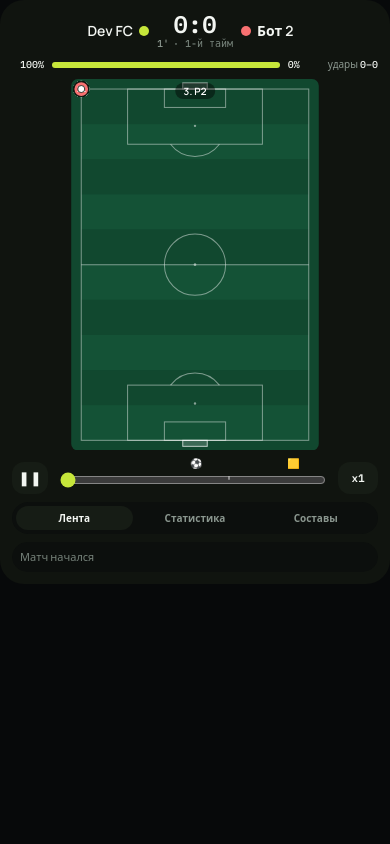
Test case: ReplayPlayer › draws the board, pitch, timeline and commentary; no tactics buttons after the match
The image size is (390, 844).
Expected: the text "Dev FC" is shown, [87,21,133,41]
Expected: the text named "Счёт" reads "0:0", [173,12,217,36]
Note: Scrubbing to the end reveals the goal in the commentary and the score.
Set the slider named "Перемотка" to "4100" at (318, 480), box [60,472,326,488]
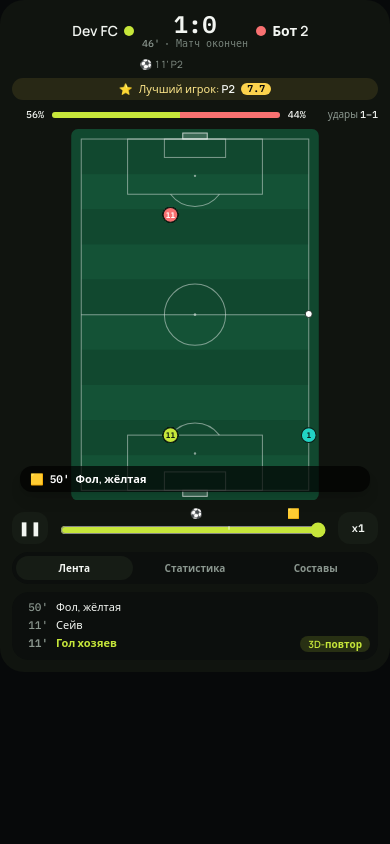
Now the text named "Счёт" reads "1:0", box [173,12,217,36]
Now the text "Гол хозяев" is shown, box [56,635,117,650]
Now the text "· Матч окончен" is shown, box [164,38,248,50]
Click the tab "Составы" at (316, 568), box [257,556,374,580]
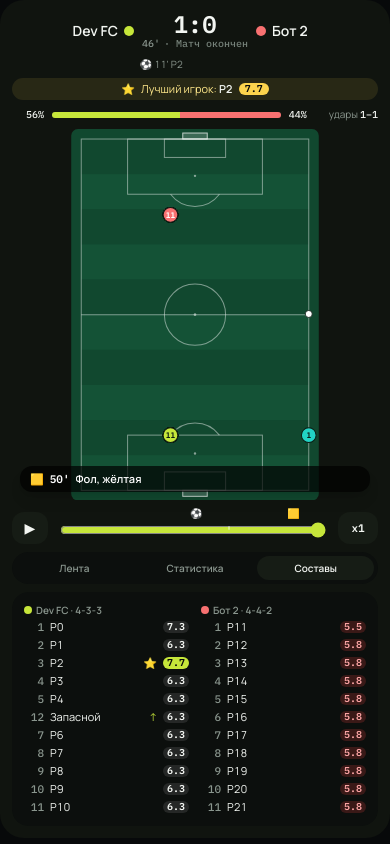
Now the element named "Составы команд" shows "7.7", box [167,656,185,669]
